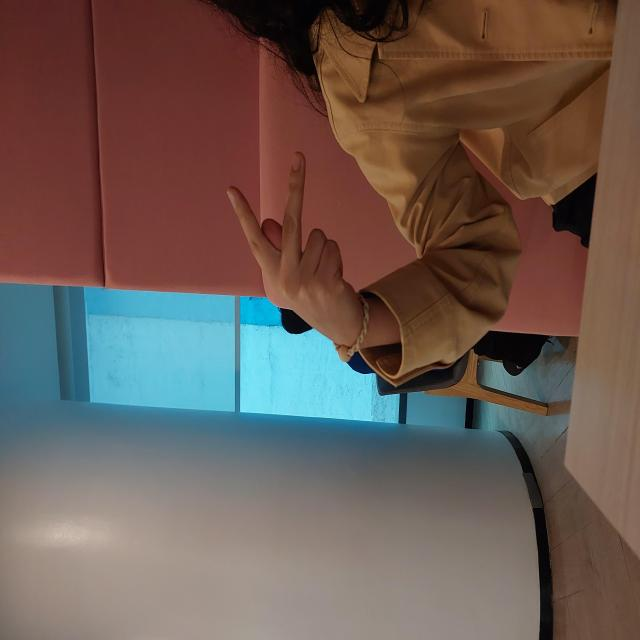K: (278, 218, 497, 371)
